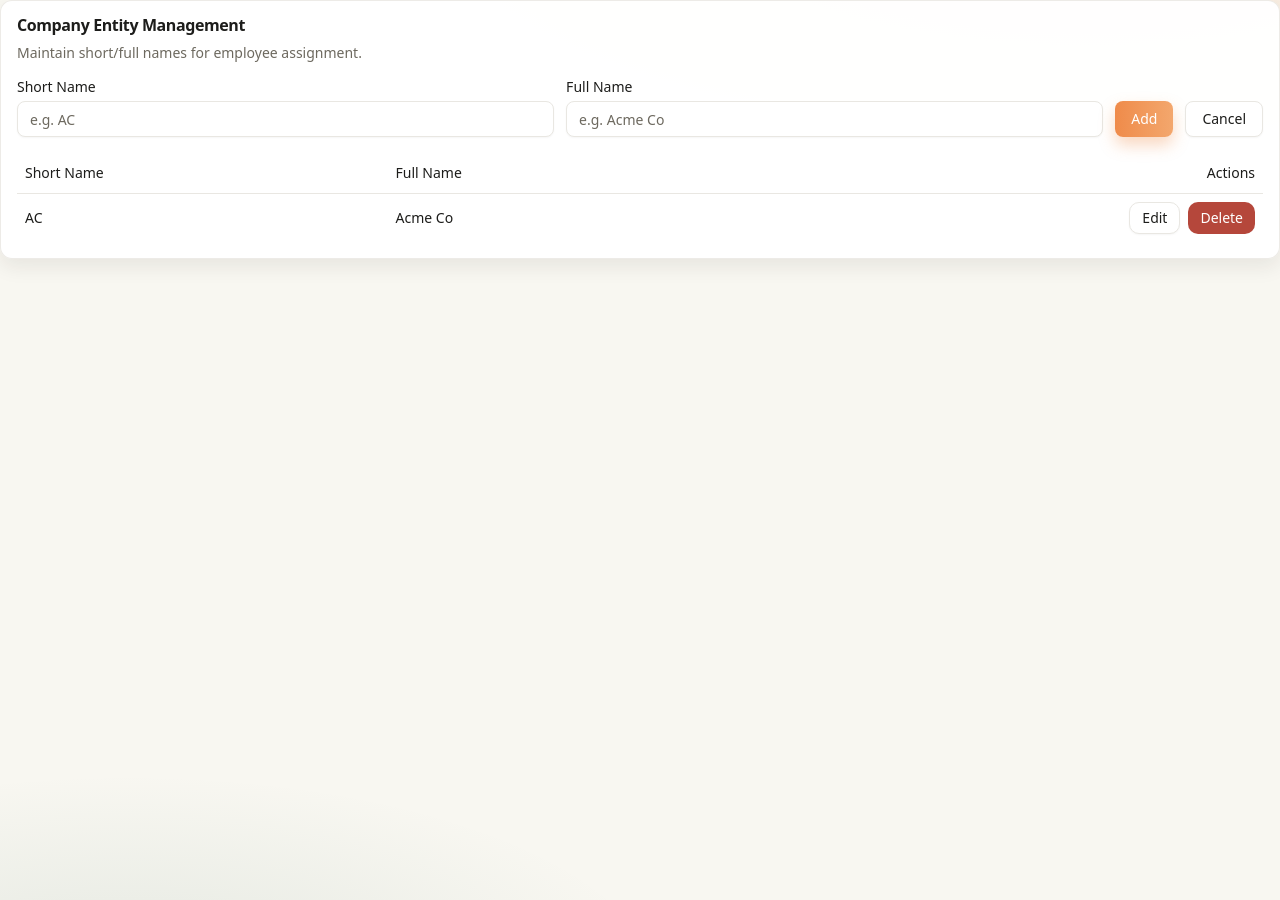
Test: P1 company page › edits an existing company
Expected: the text "AC" is shown, [17,193,388,242]
Note: Click Edit on the AC row
Click the button "Edit".
click(1155, 218)  # box [1129,202,1180,234]
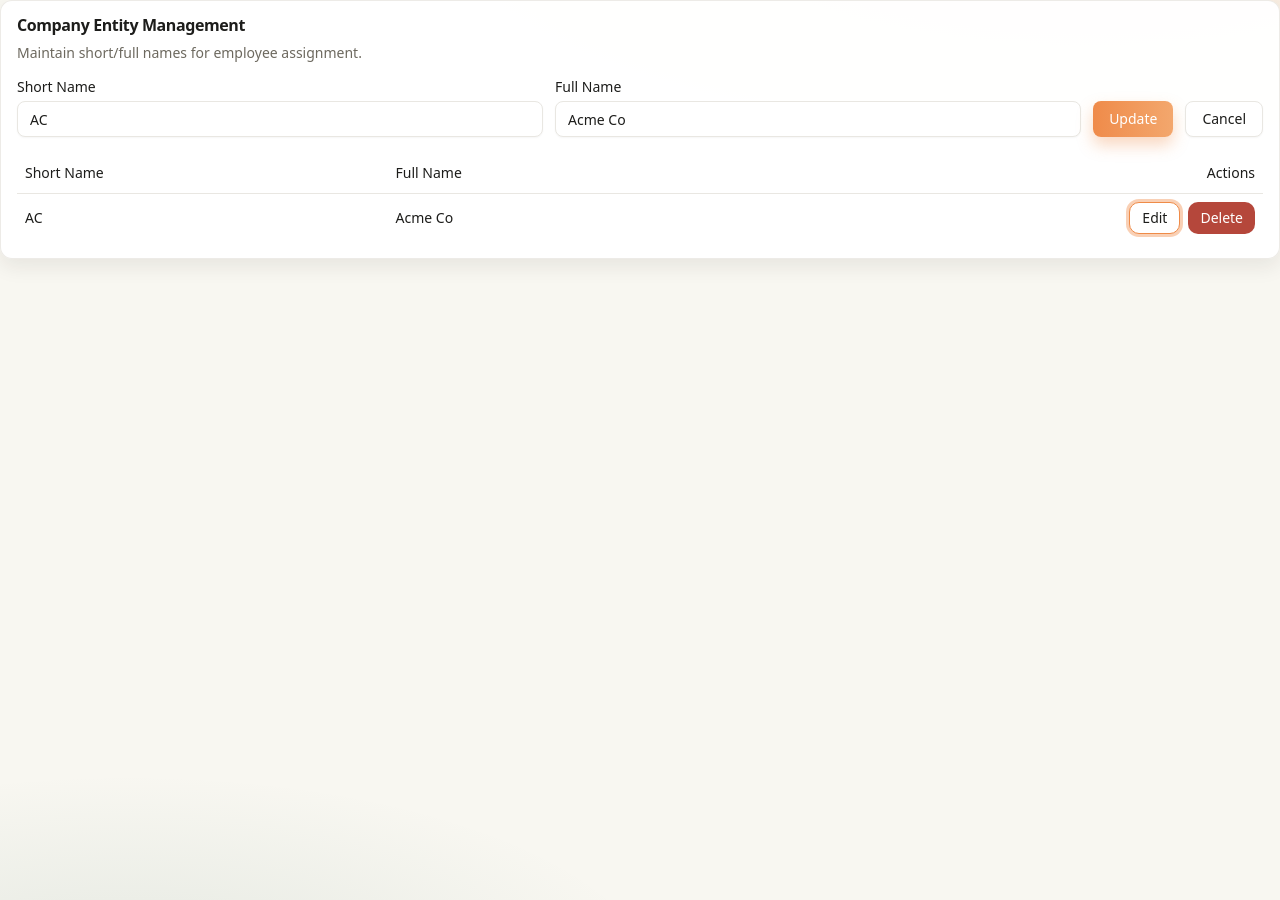
Replace the text in the field showing "Acme Co" with "Acme Corporation" at (818, 119), box [555,101,1081,137]
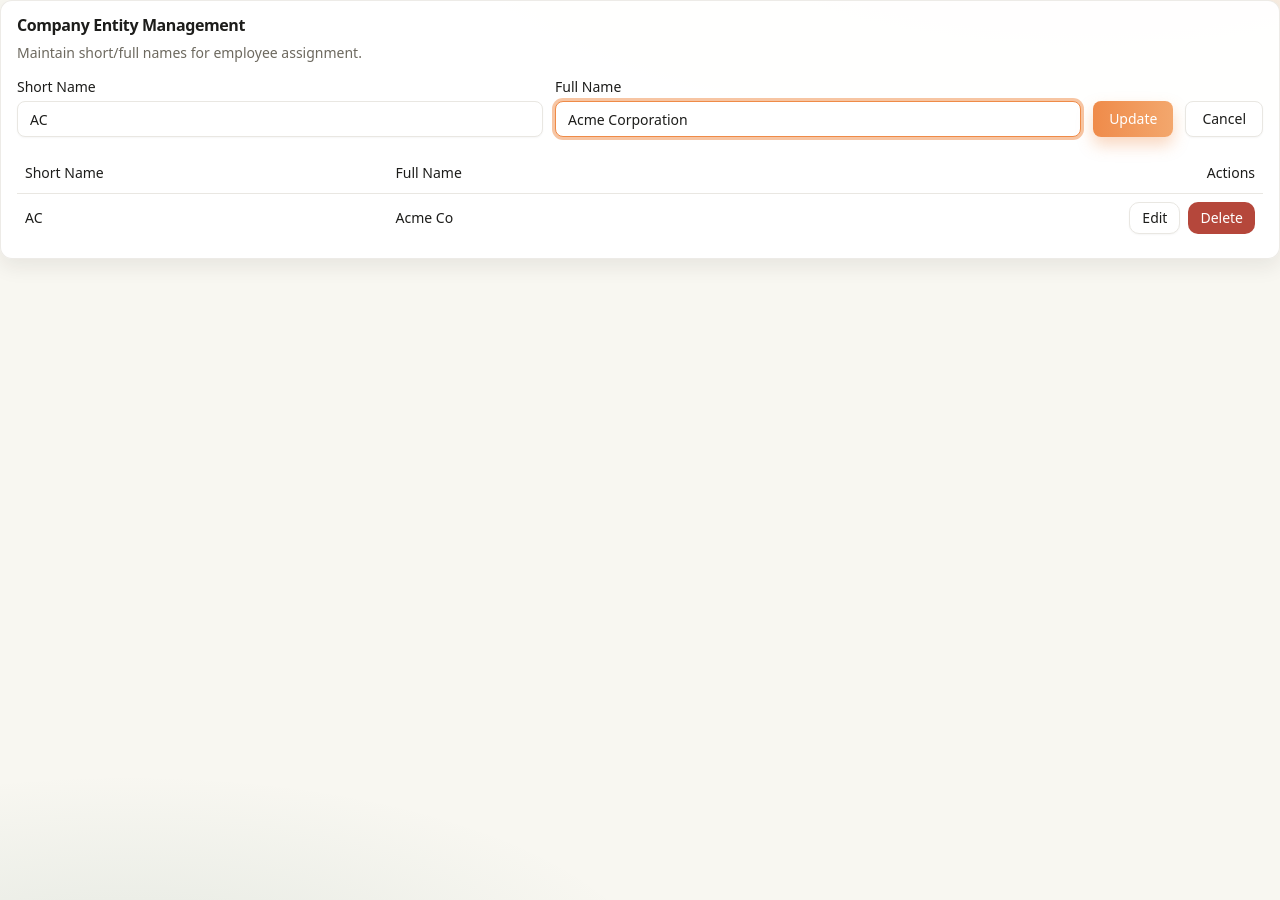
Note: Button should now say "Update"
Click the button "Update".
click(1133, 119)  # box [1093,101,1173,137]
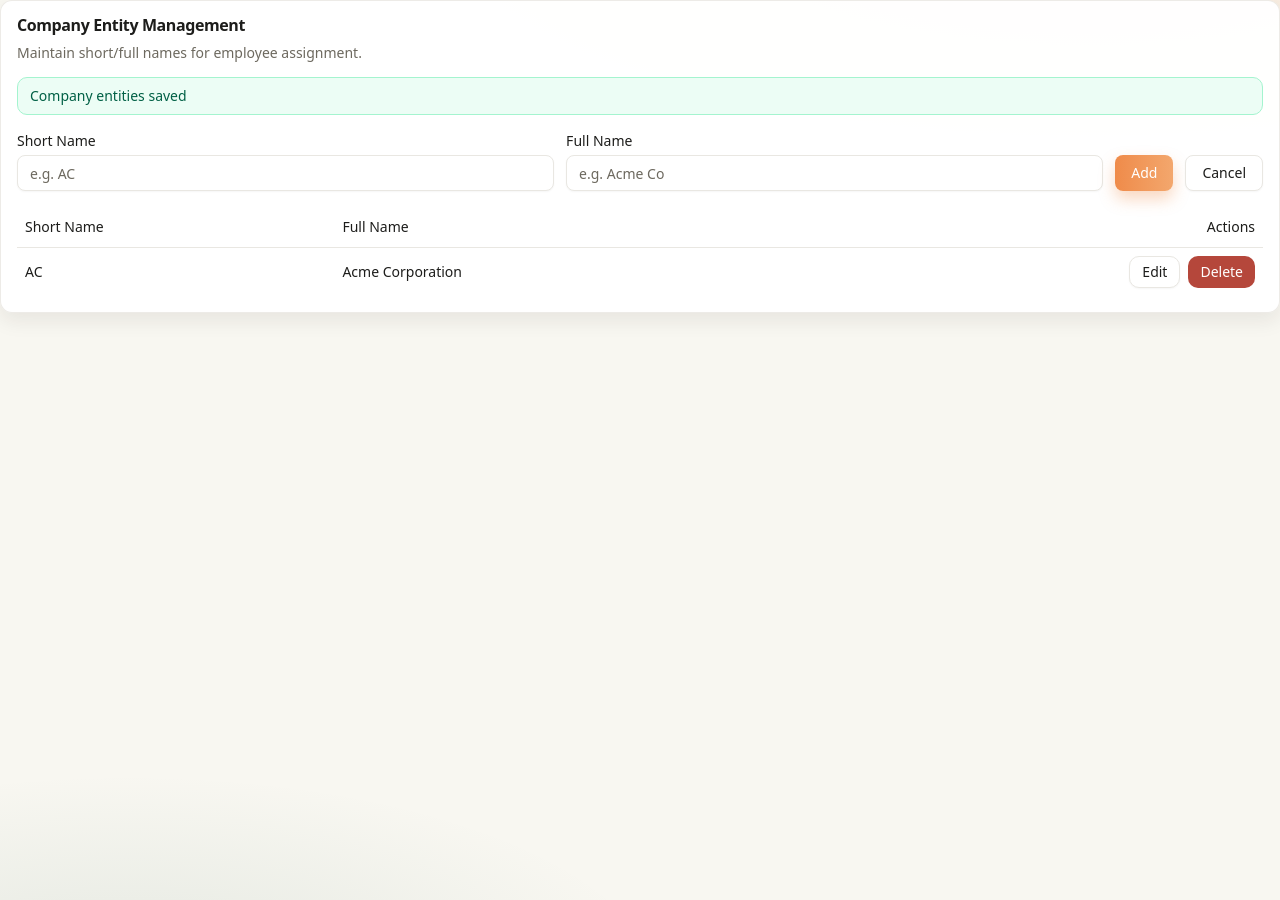
Now the cell "Acme Corporation" is shown, box [334,247,789,296]
